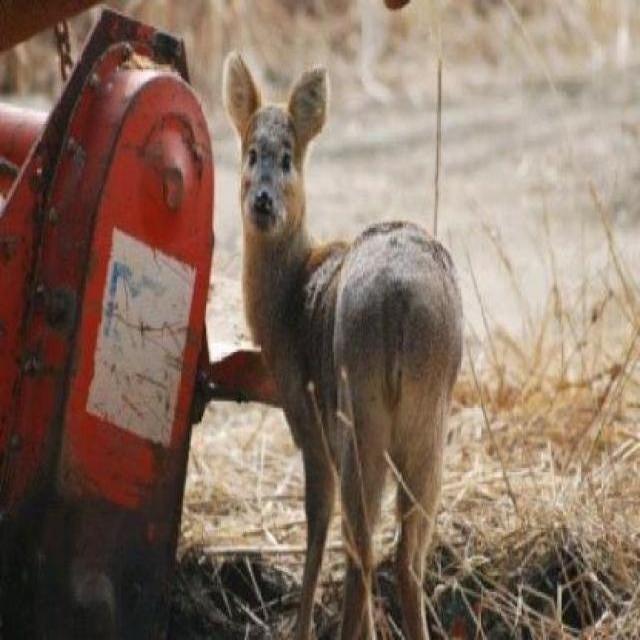deer: (211, 43, 500, 640)
